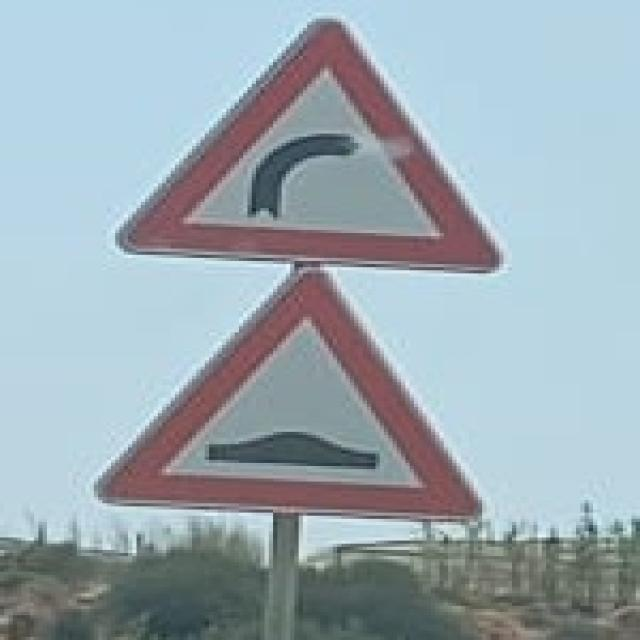warn_right_curve: (113, 16, 504, 276)
